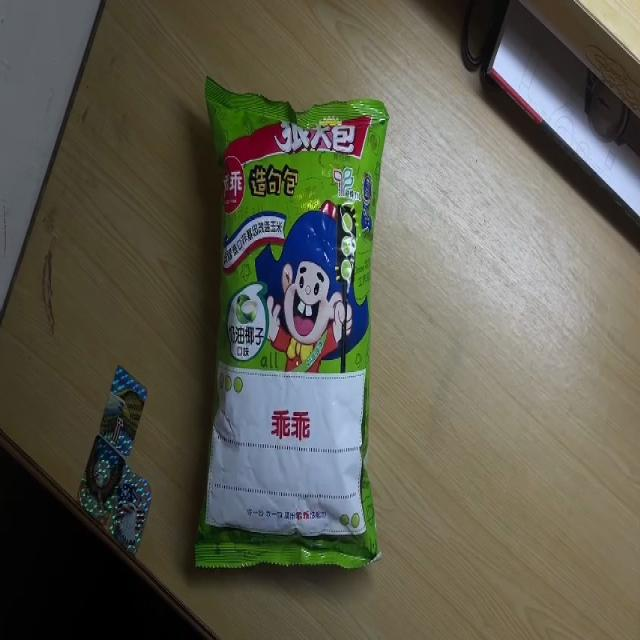Good-Luck: (197, 73, 381, 566)
